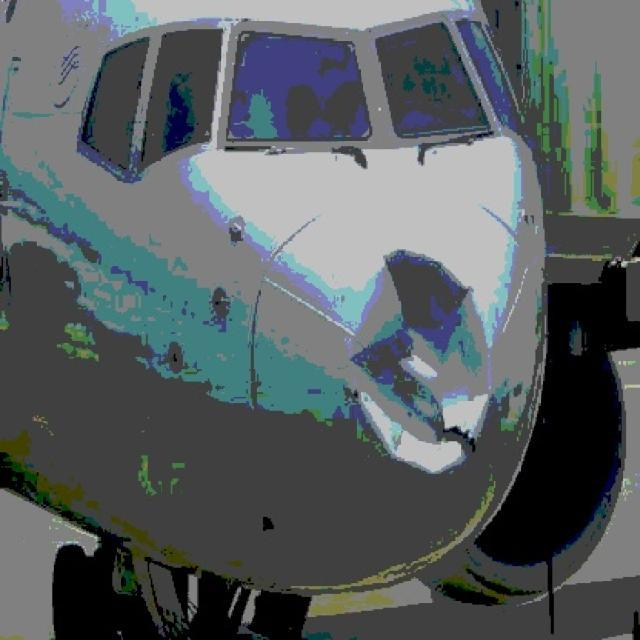dent: (335, 244, 503, 483)
